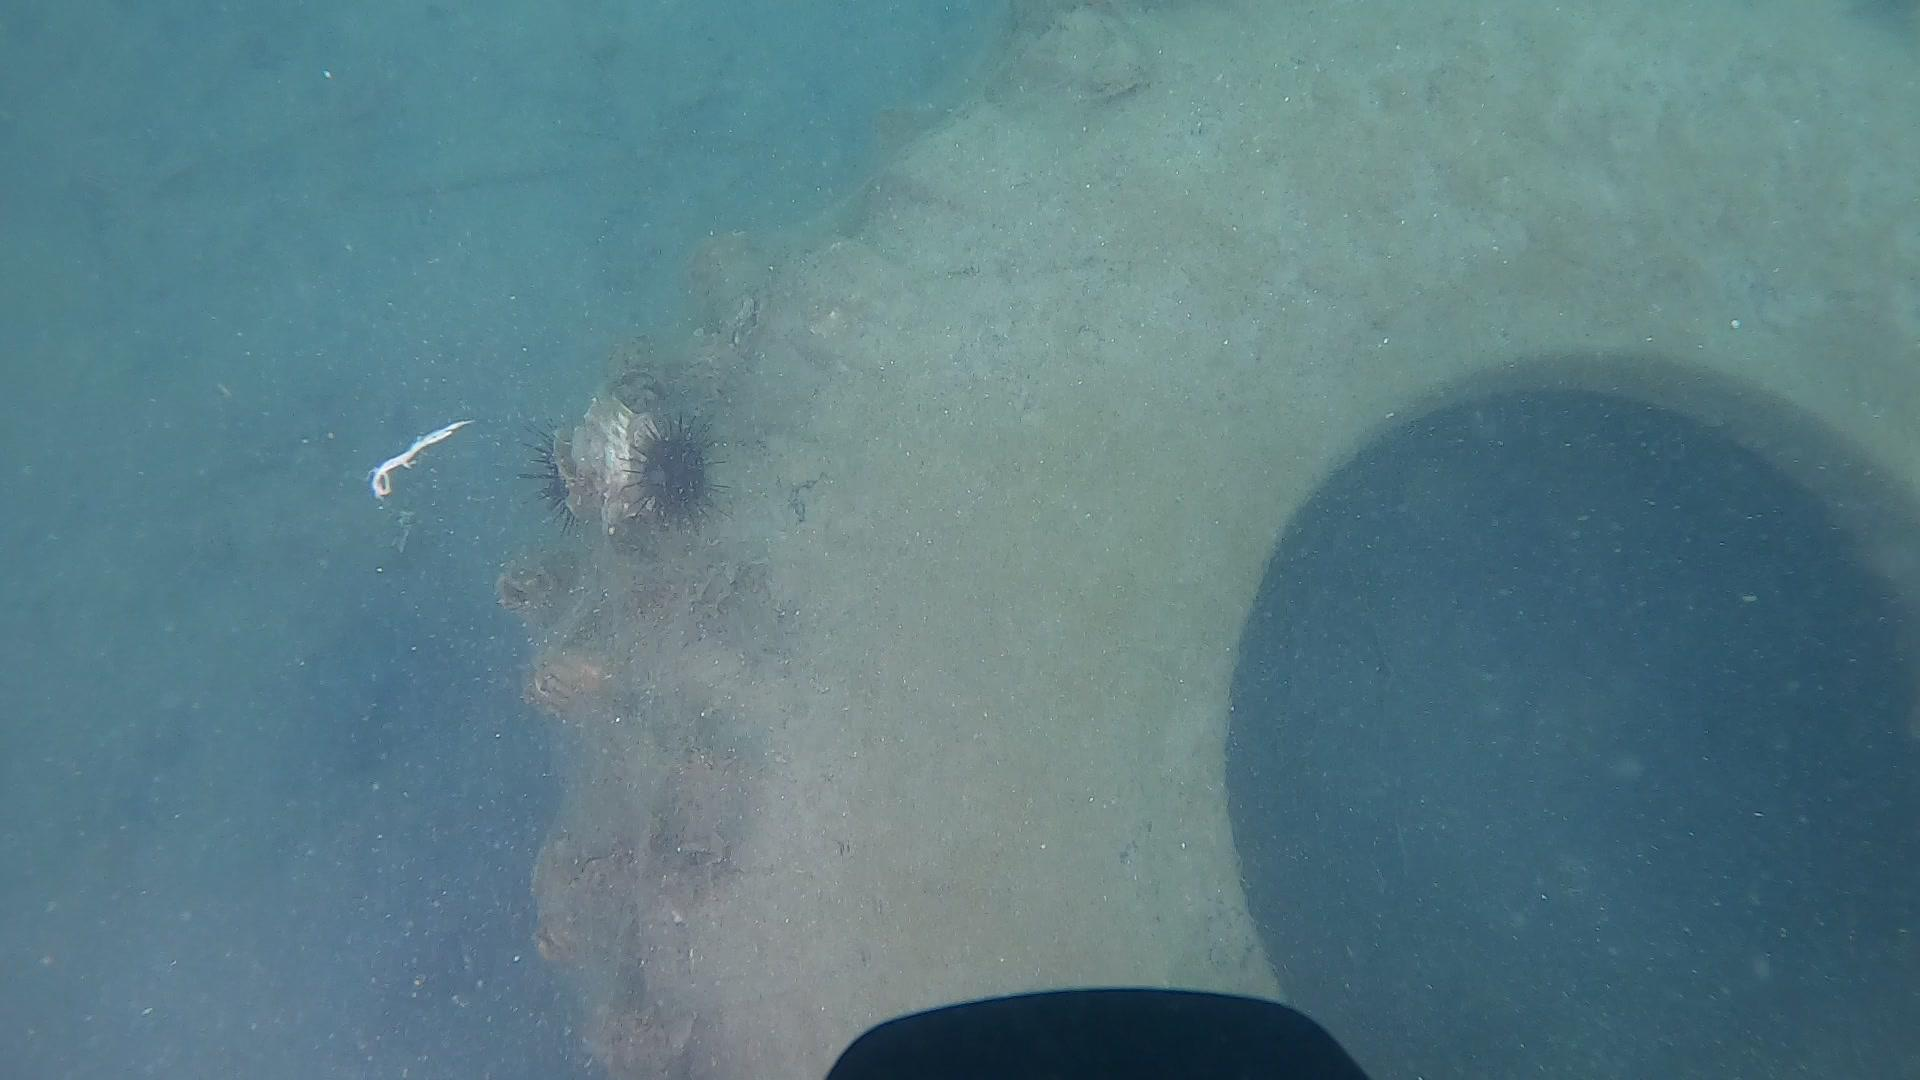fish net: (522, 0, 1920, 1080)
